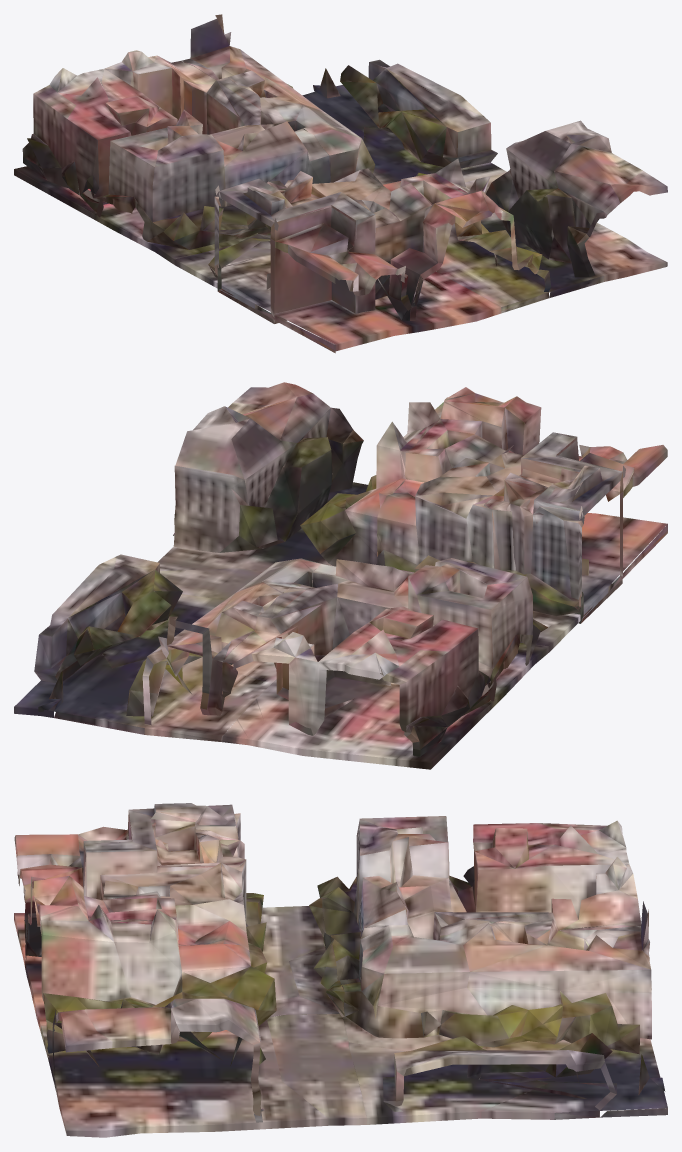
3 views of the same model, one above another, from view 1: azimuth 30°, elevation 25°; view 2: azimuth 150°, elevation 25°; view 3: azimuth 270°, elevation 25° (orthographic). The views are drawn at different scales.
Visible parts, largest first — view 1: Mesh_0; view 2: Mesh_0; view 3: Mesh_0.
Boxes of the visible parts, x1,y1,x2,y2 form: Mesh_0: (14,14,667,353); Mesh_0: (14,382,667,769); Mesh_0: (14,803,667,1137).
Bounding box in the file's own units: 133 × 40.45 × 165.
1 material, 1 textured.
